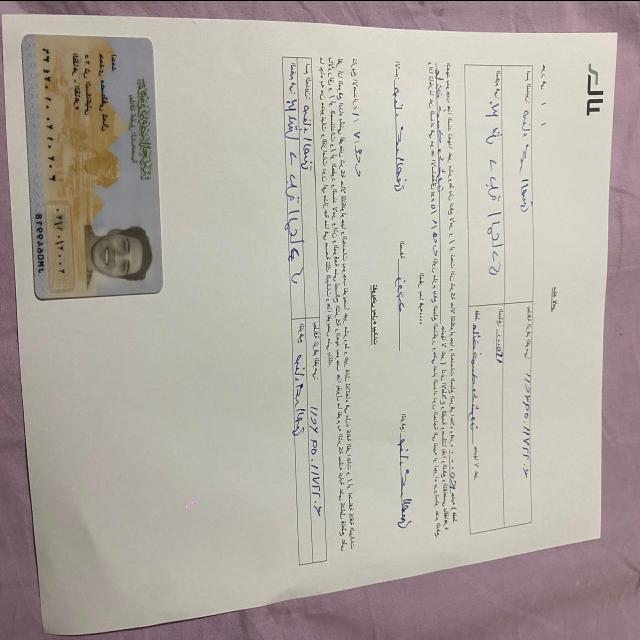ID-cards: (14, 28, 167, 307)
